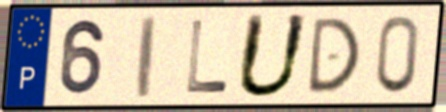0: (375, 14, 422, 96)
6: (59, 17, 109, 98)
D: (304, 15, 363, 96)
I: (135, 13, 158, 101)
L: (184, 17, 231, 96)
U: (232, 11, 313, 101)
